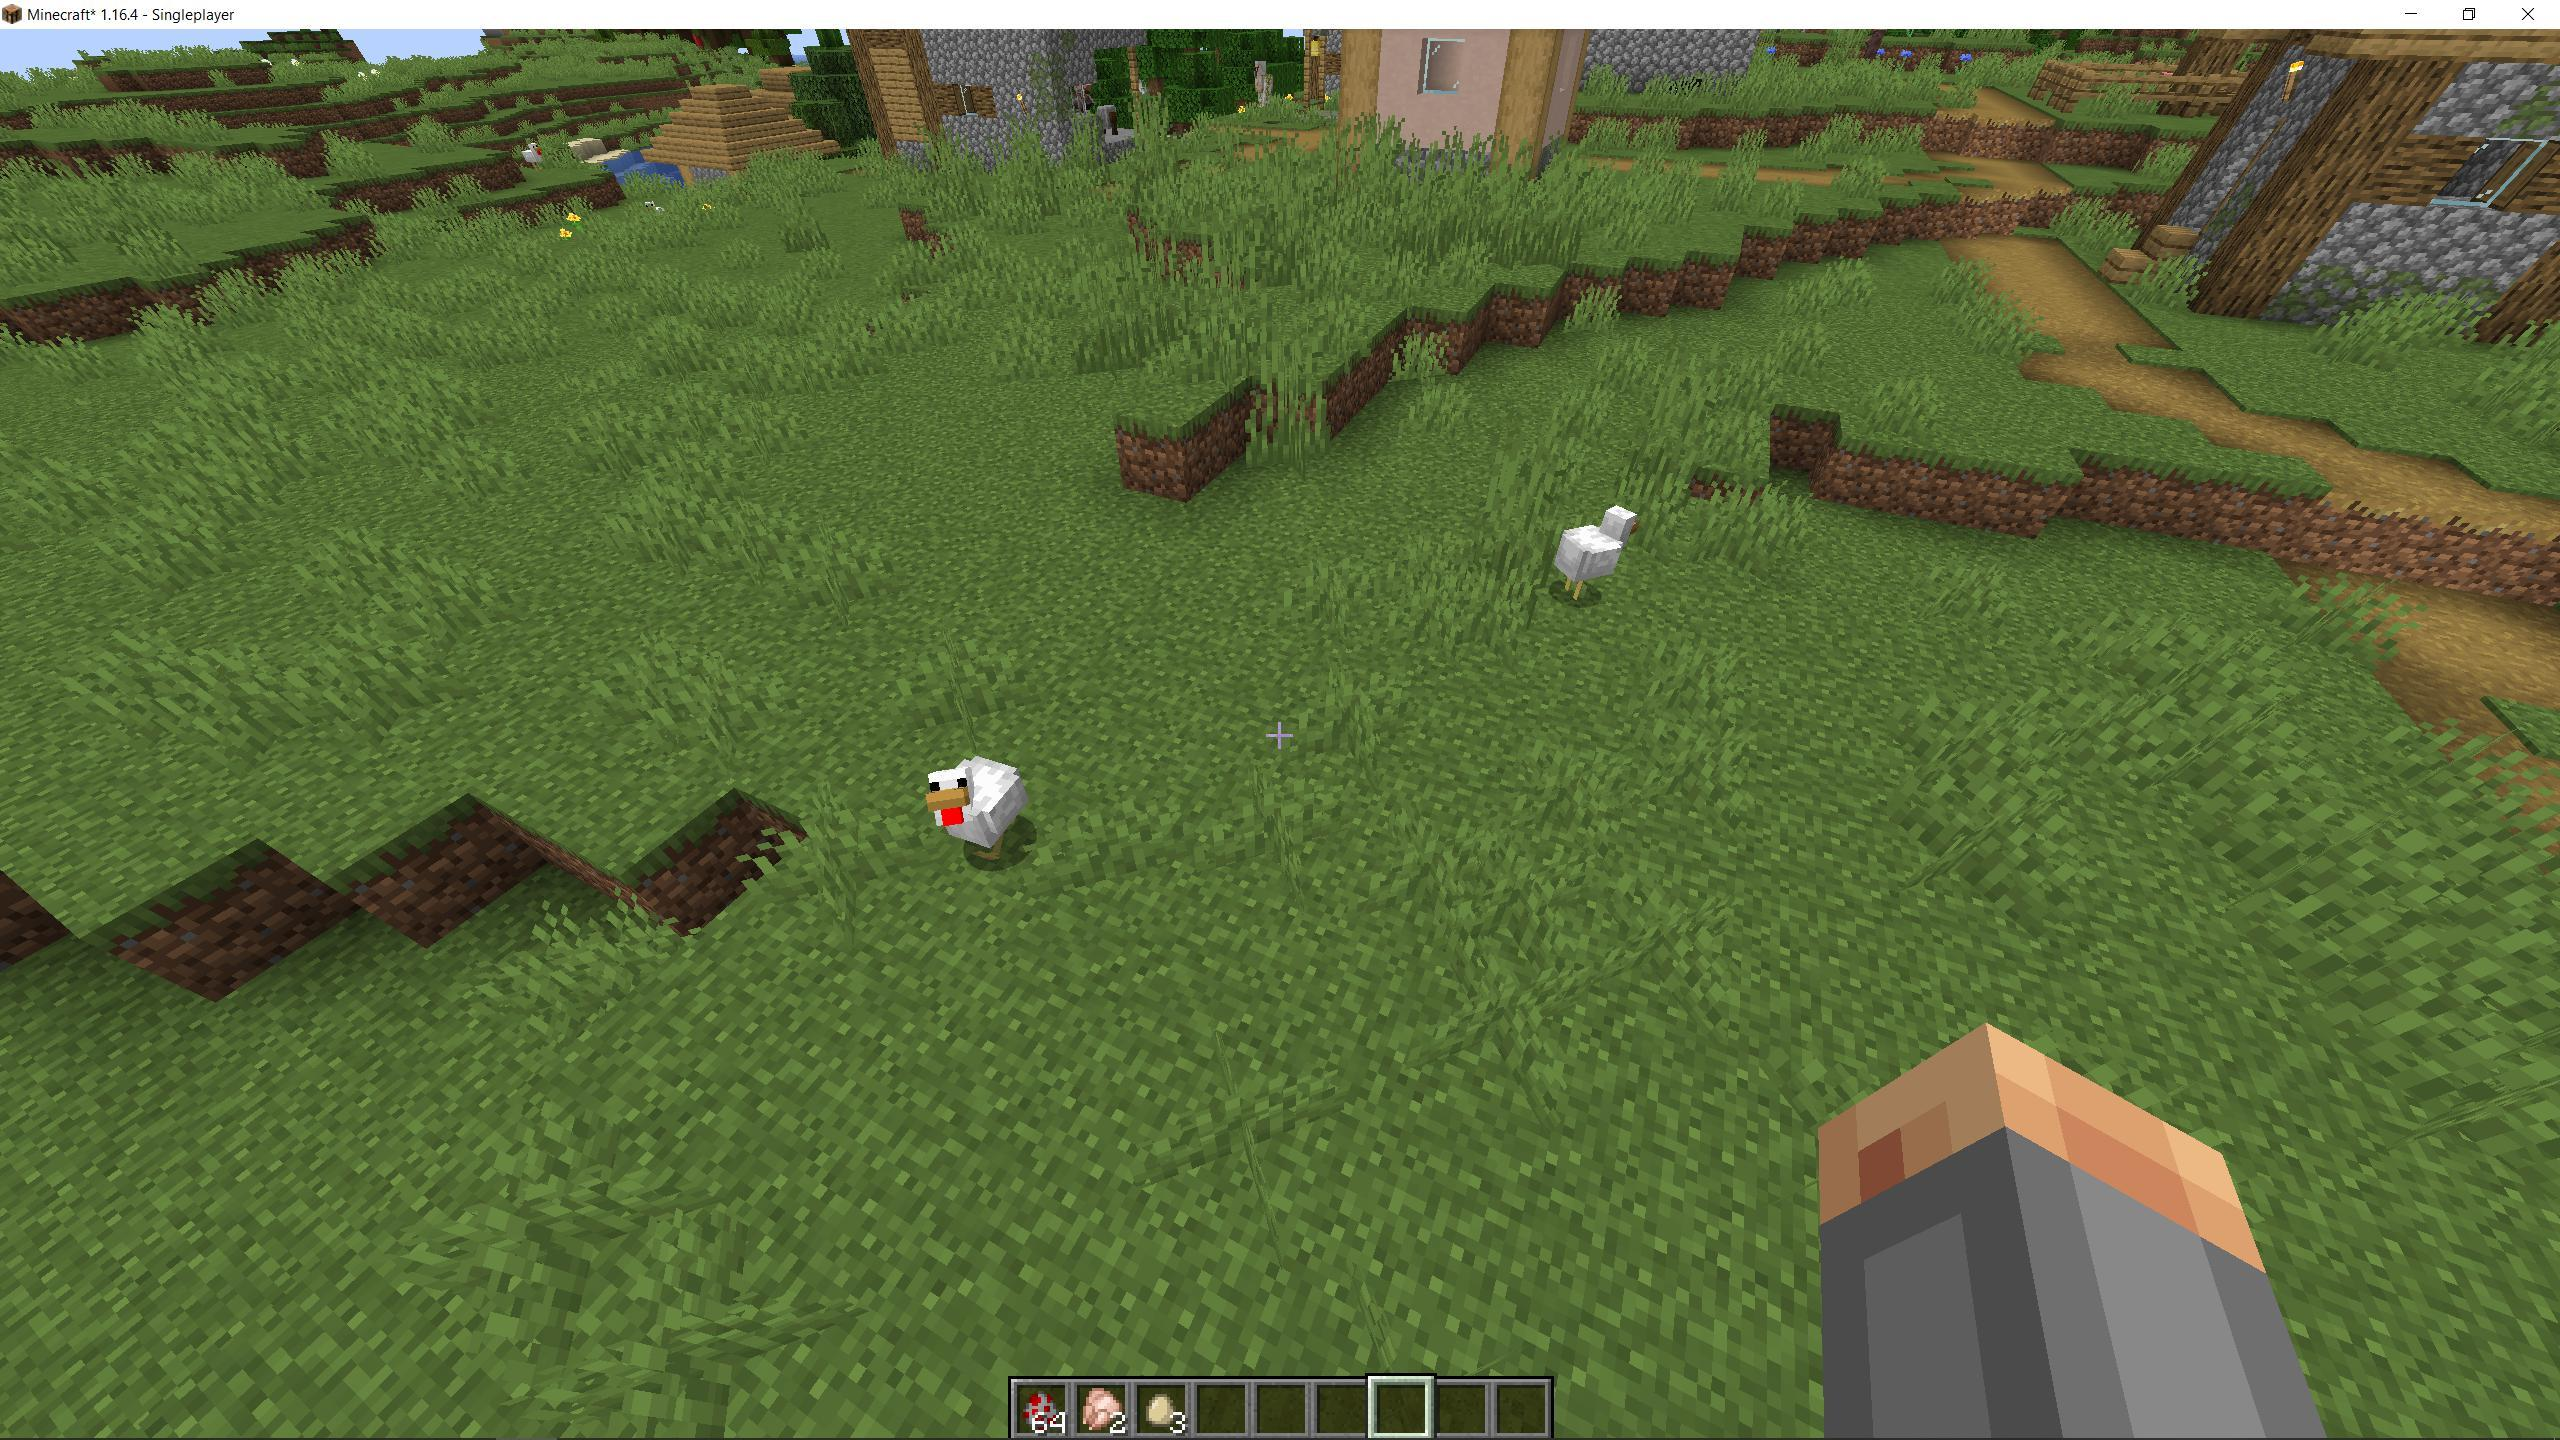chicken: (921, 745, 1034, 884), (1547, 503, 1647, 621)
